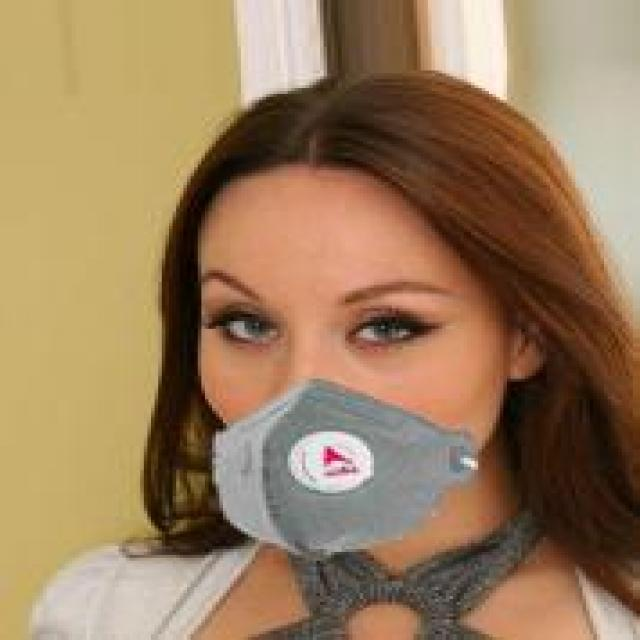mask: (54, 103, 575, 590)
